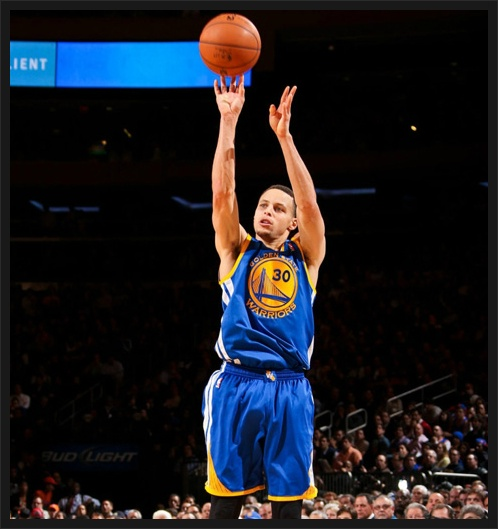ball: (196, 5, 266, 82)
shoot: (180, 6, 334, 529)
